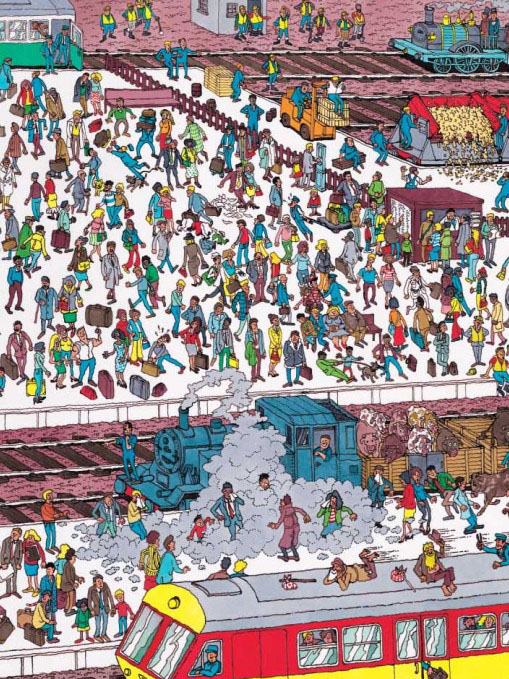waldo: (308, 274, 318, 289)
